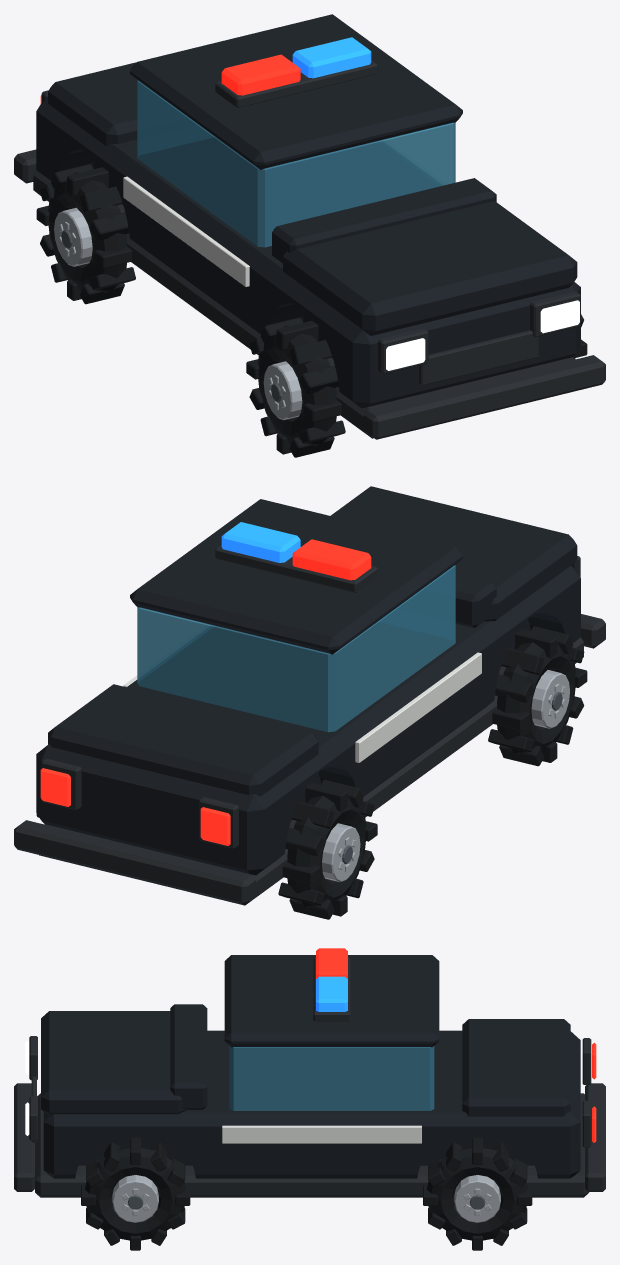
File: PoliceCar.glb
The picture shows the model from 3 angles, top to bottom: view 1: azimuth 30°, elevation 25°; view 2: azimuth 150°, elevation 25°; view 3: azimuth 270°, elevation 25°; orthographic projection. The views are drawn at different scales.
Parts seen in each view (by area): view 1: BodyPaint_Mesh, Glass_Mesh, Trim_Mesh, Wheel_FL_Tire, Wheel_RL_Tire, Decal_Mesh, PoliceLightbarGlow_Red, PoliceLightbarGlow_Blue, Wheel_FL_Hub, Wheel_RL_Hub, HeadlightGlow_L, HeadlightGlow_R; view 2: BodyPaint_Mesh, Glass_Mesh, Trim_Mesh, Wheel_FL_Tire, Wheel_RL_Tire, Decal_Mesh, PoliceLightbarGlow_Red, PoliceLightbarGlow_Blue, Wheel_RL_Hub, Wheel_FL_Hub, TailLightGlow_L, TailLightGlow_R; view 3: BodyPaint_Mesh, Trim_Mesh, Glass_Mesh, Wheel_RR_Tire, Wheel_FR_Tire, Decal_Mesh, Wheel_RR_Hub, Wheel_FR_Hub, PoliceLightbarGlow_Blue, PoliceLightbarGlow_Red.
Boxes of the visible parts, x1,y1,x2,y2 form: BodyPaint_Mesh: (36,14,580,408); Glass_Mesh: (137,80,455,247); Trim_Mesh: (14,60,605,439); Wheel_FL_Tire: (246,317,345,457); Wheel_RL_Tire: (36,164,135,304); Decal_Mesh: (123,176,249,286); PoliceLightbarGlow_Red: (221,54,300,95); PoliceLightbarGlow_Blue: (292,37,371,78); Wheel_FL_Hub: (263,361,302,419); Wheel_RL_Hub: (54,207,92,266); HeadlightGlow_L: (386,338,425,370); HeadlightGlow_R: (540,300,579,333); BodyPaint_Mesh: (36,486,580,875); Glass_Mesh: (137,565,455,732); Trim_Mesh: (14,545,605,905); Wheel_FL_Tire: (488,626,587,766); Wheel_RL_Tire: (278,779,377,919); Decal_Mesh: (123,652,481,762); PoliceLightbarGlow_Red: (292,539,371,580); PoliceLightbarGlow_Blue: (221,522,300,562); Wheel_RL_Hub: (321,823,360,882); Wheel_FL_Hub: (531,670,569,728); TailLightGlow_L: (200,807,230,845); TailLightGlow_R: (40,768,70,806); BodyPaint_Mesh: (41,955,580,1178); Trim_Mesh: (14,958,605,1197); Glass_Mesh: (229,1046,434,1110); Wheel_RR_Tire: (423,1137,532,1250); Wheel_FR_Tire: (81,1137,190,1250); Decal_Mesh: (222,1125,421,1143); Wheel_RR_Hub: (454,1175,500,1222); Wheel_FR_Hub: (112,1175,158,1222); PoliceLightbarGlow_Blue: (316,976,347,1011); PoliceLightbarGlow_Red: (316,948,347,978).
Size of what is drawn, in the model's own units: 2.16 by 1.99 by 4.8.
